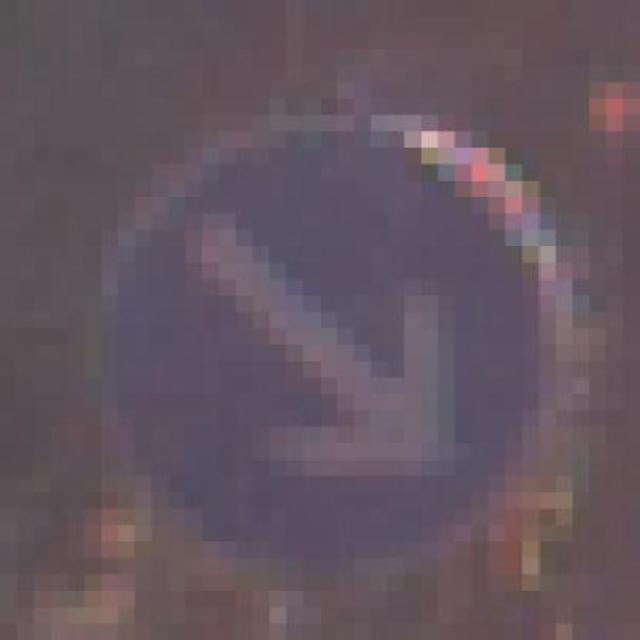Keep-Right: (67, 82, 590, 590)
